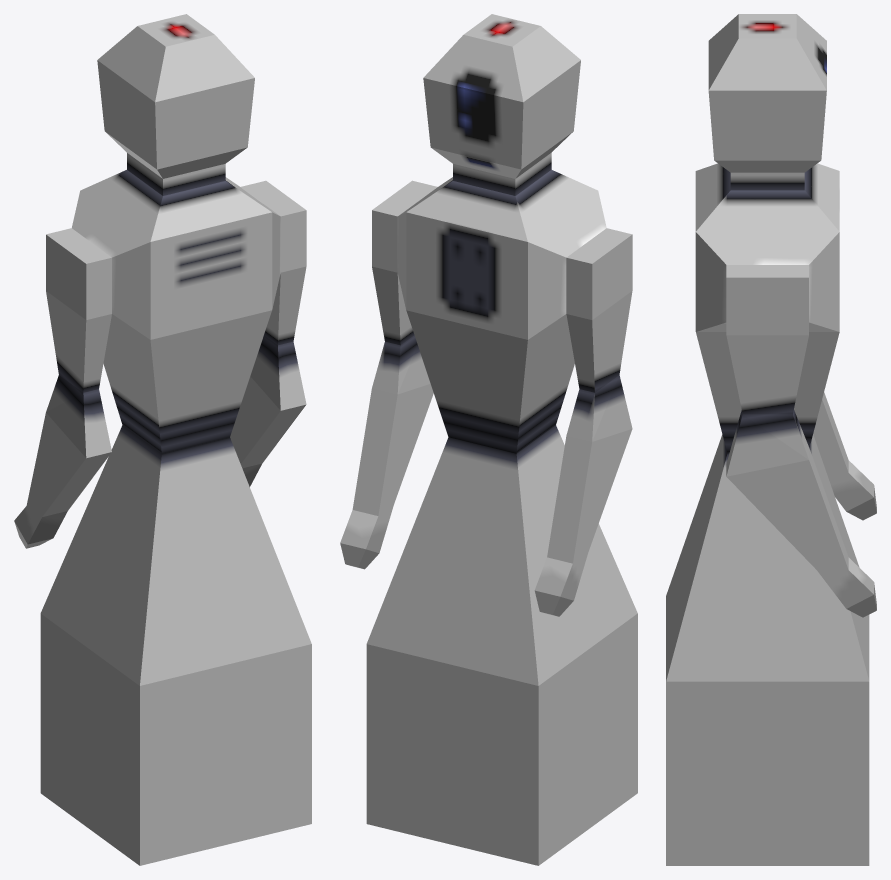
Rendered from robot_texture.obj.
3 renders of one model, left to right at view 1: azimuth 30°, elevation 25°; view 2: azimuth 150°, elevation 25°; view 3: azimuth 270°, elevation 25°, orthographic. The views are drawn at different scales.
Visible parts, largest first — view 1: RobotTex; view 2: RobotTex; view 3: RobotTex.
Boxes of the visible parts, bbox=[...] form: RobotTex: bbox=[14, 14, 311, 865]; RobotTex: bbox=[340, 14, 637, 865]; RobotTex: bbox=[666, 14, 876, 865].
Bounding box in the file's own units: 0.2562 × 0.8649 × 0.2074.
1 material, 1 textured.
